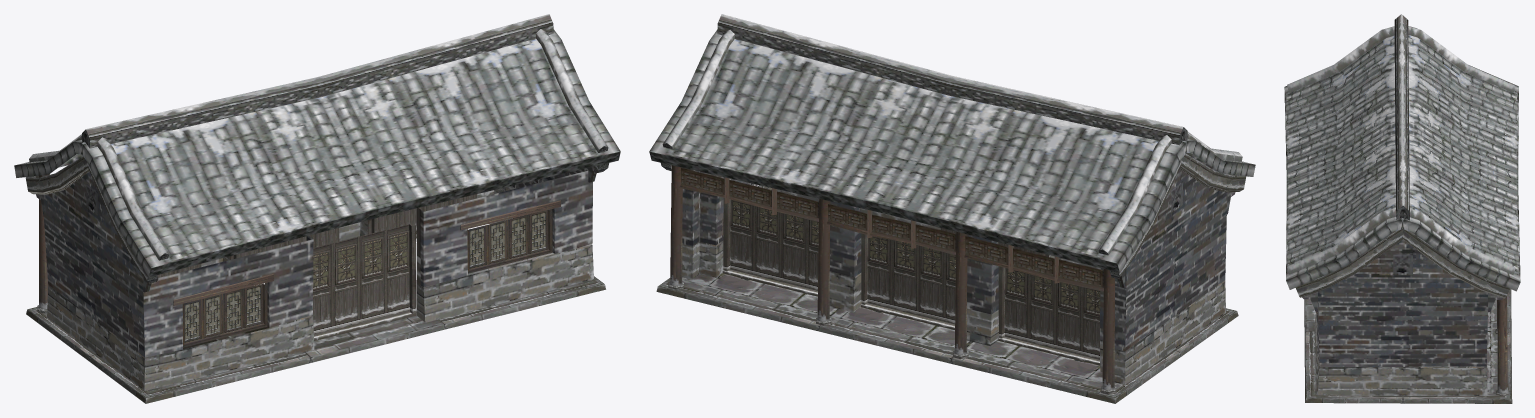
The model's file is oBldMinfang01.FBX.
The picture shows the model from 3 angles, left to right: view 1: azimuth 30°, elevation 25°; view 2: azimuth 150°, elevation 25°; view 3: azimuth 270°, elevation 25°; orthographic projection. The views are drawn at different scales.
Visible parts, largest first — view 1: oBldMinfang01; view 2: oBldMinfang01; view 3: oBldMinfang01.
Boxes of the visible parts, left/top/right/bottom form: oBldMinfang01: left=14, top=14, right=620, bottom=403; oBldMinfang01: left=649, top=14, right=1255, bottom=403; oBldMinfang01: left=1284, top=14, right=1520, bottom=403.
Bounding box in the file's own units: 88 × 41.75 × 44.91.
Materials: 1 (1 with a texture image).
